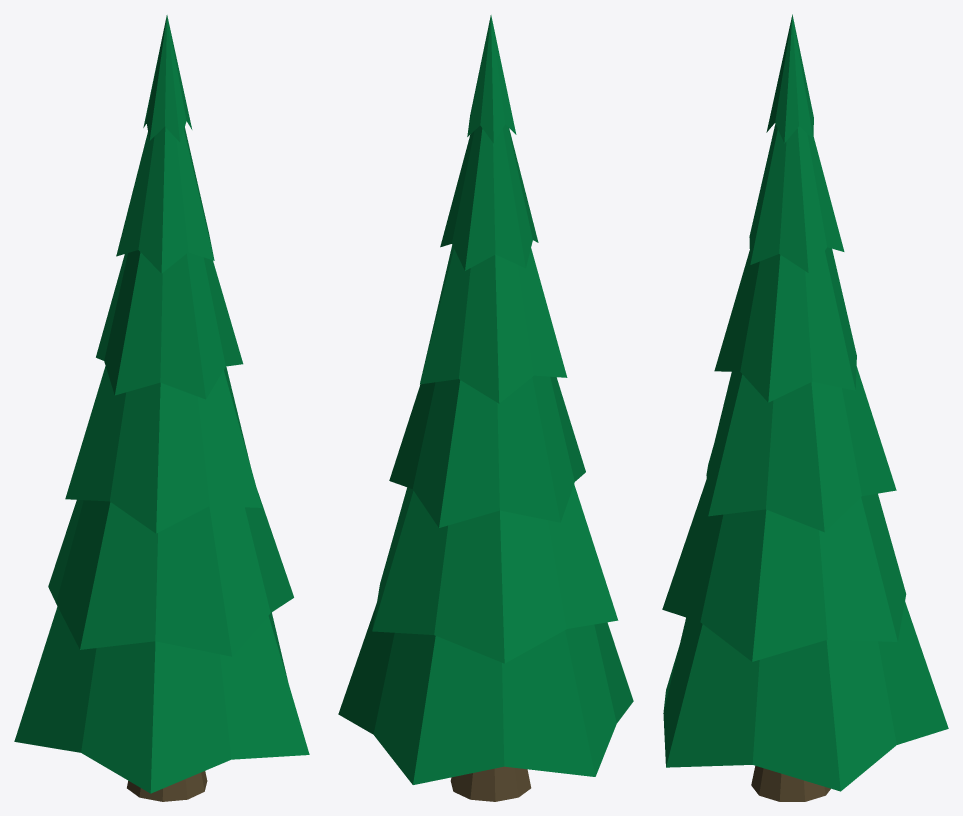
The model's file is Low_Poly_Fir.fbx.
3 views of the same model, side by side, from view 1: azimuth 30°, elevation 25°; view 2: azimuth 150°, elevation 25°; view 3: azimuth 270°, elevation 25° (orthographic).
Parts seen in each view (by area): view 1: Cylinder, Cylinder.001; view 2: Cylinder, Cylinder.001; view 3: Cylinder, Cylinder.001.
Boxes of the visible parts, x1=… form: Cylinder: x1=14, y1=15, x2=309, y2=793; Cylinder.001: x1=127, y1=771, x2=207, y2=801; Cylinder: x1=338, y1=15, x2=633, y2=784; Cylinder.001: x1=450, y1=766, x2=531, y2=801; Cylinder: x1=662, y1=14, x2=948, y2=791; Cylinder.001: x1=751, y1=766, x2=830, y2=801.
Size of the model in its own units: 609 by 1742 by 587.
